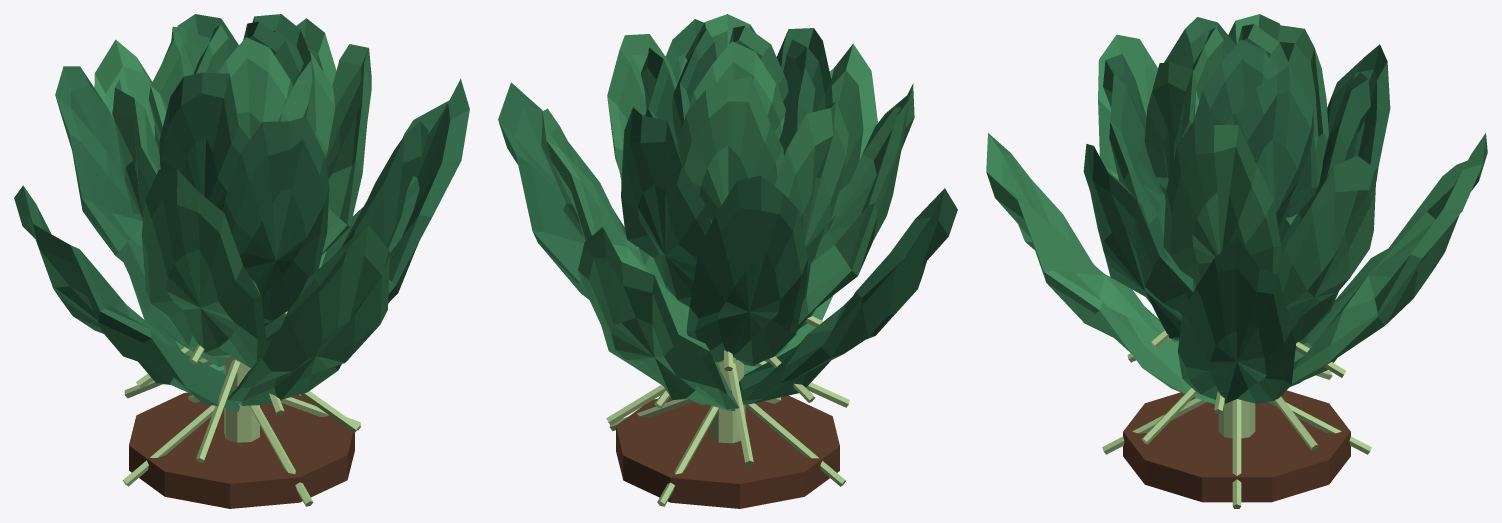
Rendered from couve.glb.
The picture shows the model from 3 angles, left to right: view 1: azimuth 30°, elevation 25°; view 2: azimuth 150°, elevation 25°; view 3: azimuth 270°, elevation 25°; orthographic projection.
Visible parts, largest first — view 1: couve; view 2: couve; view 3: couve.
Boxes of the visible parts, x1,y1,x2,y2 form: couve: (14, 14, 469, 508); couve: (498, 14, 957, 508); couve: (986, 14, 1487, 508).
Bounding box in the file's own units: 2.2 × 2.06 × 2.2.
